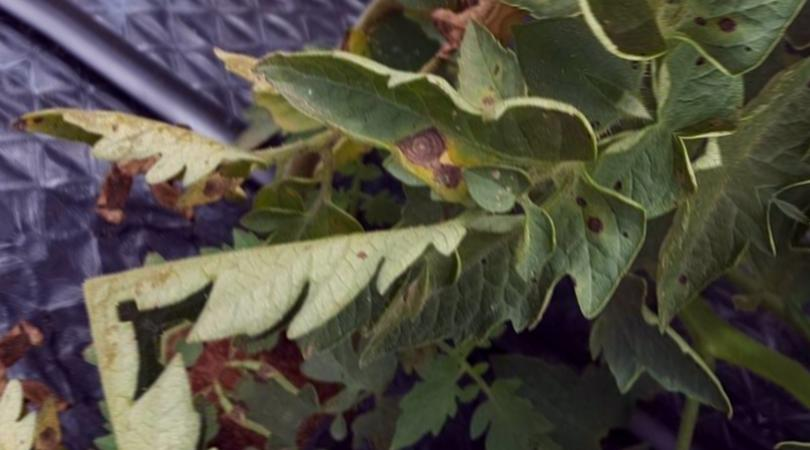Tomato Early blight leaf: (205, 0, 610, 270), (0, 231, 438, 421)
Tomato leaf: (552, 256, 770, 450), (510, 21, 810, 139), (601, 171, 810, 307), (442, 357, 618, 450)
